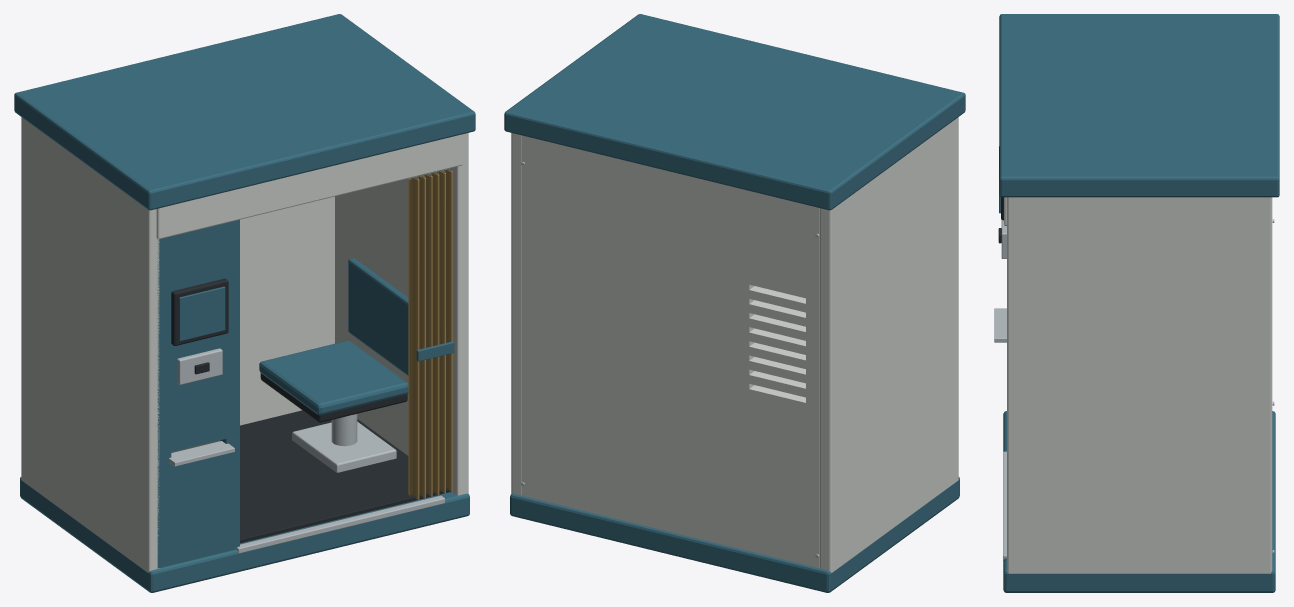
File: city-photo-booth.glb
3 views of the same model, side by side, from view 1: azimuth 30°, elevation 25°; view 2: azimuth 150°, elevation 25°; view 3: azimuth 270°, elevation 25° (orthographic). The views are drawn at different scales.
Visible parts, largest first — view 1: Assembly | Deep petrol powder coating, Assembly | Warm pale powder coating, Assembly | Opaque inactive display and rubber, Assembly | Opaque ochre curtain, Assembly | Brushed plain metal; view 2: Assembly | Warm pale powder coating, Assembly | Deep petrol powder coating; view 3: Assembly | Warm pale powder coating, Assembly | Deep petrol powder coating, Assembly | Brushed plain metal.
Boxes of the visible parts, box(x1,y1,x2,y2) form: Assembly | Deep petrol powder coating: box(14, 14, 475, 592); Assembly | Warm pale powder coating: box(21, 117, 468, 572); Assembly | Opaque inactive display and rubber: box(171, 278, 451, 543); Assembly | Opaque ochre curtain: box(408, 169, 452, 499); Assembly | Brushed plain metal: box(168, 168, 451, 553); Assembly | Warm pale powder coating: box(511, 117, 958, 572); Assembly | Deep petrol powder coating: box(504, 14, 965, 592); Assembly | Warm pale powder coating: box(1004, 197, 1272, 573); Assembly | Deep petrol powder coating: box(999, 14, 1279, 592); Assembly | Brushed plain metal: box(994, 219, 1274, 560).
Bounding box in the file's own units: 1.84 × 2.17 × 1.35.
